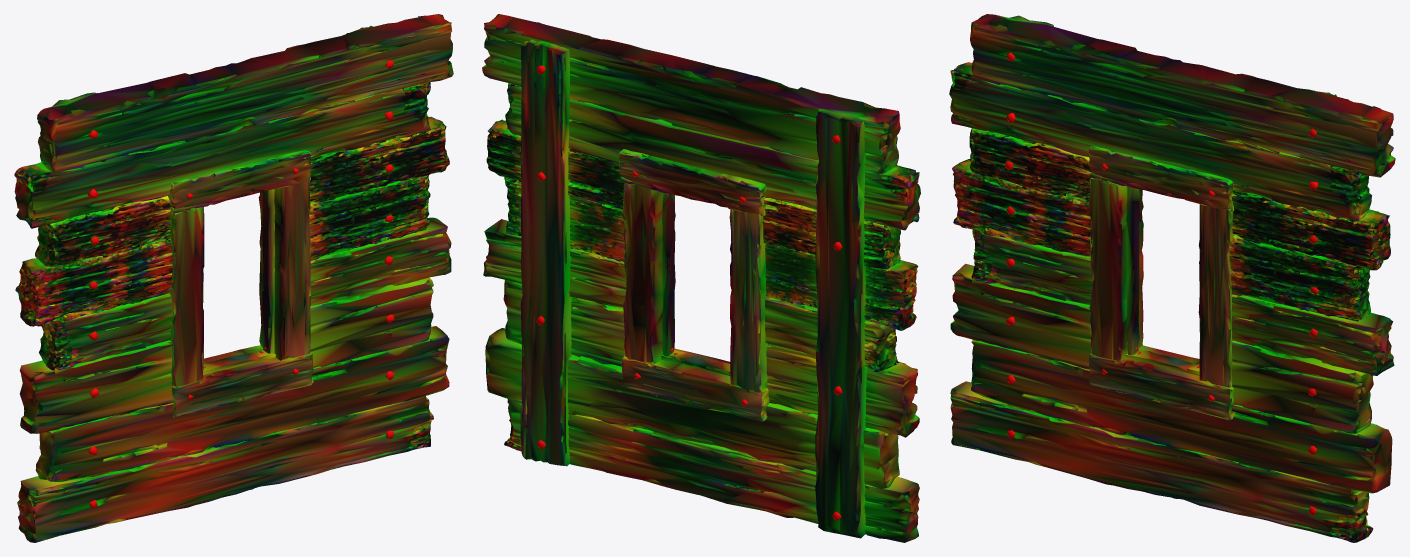
Rendered from SM_Wood_WallWindow.fbx.
3 renders of one model, left to right at view 1: azimuth 30°, elevation 25°; view 2: azimuth 150°, elevation 25°; view 3: azimuth 330°, elevation 25°, orthographic.
Visible parts, largest first — view 1: SM_Wood_WallWindow_LOD0; view 2: SM_Wood_WallWindow_LOD0; view 3: SM_Wood_WallWindow_LOD0.
Part boxes in pixels (x1,y1,x2,y2): SM_Wood_WallWindow_LOD0: [14, 14, 453, 542]; SM_Wood_WallWindow_LOD0: [482, 14, 920, 542]; SM_Wood_WallWindow_LOD0: [949, 14, 1395, 542].
Size of the model in its own units: 323 by 36.23 by 305.
